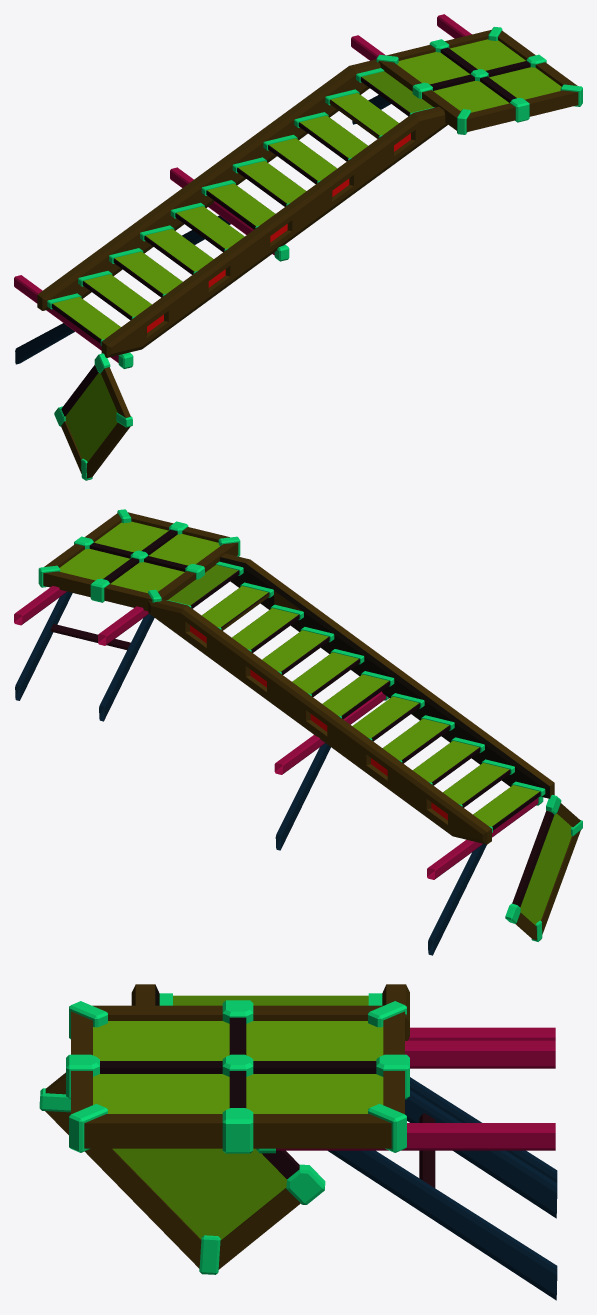
File: OBJ_Plateforme_Rampe.fbx
3 views of the same model, one above another, from view 1: azimuth 30°, elevation 25°; view 2: azimuth 150°, elevation 25°; view 3: azimuth 270°, elevation 25° (orthographic). The views are drawn at different scales.
Visible parts, largest first — view 1: OBJ_Plateforme_Rampe; view 2: OBJ_Plateforme_Rampe; view 3: OBJ_Plateforme_Rampe.
Boxes of the visible parts, bbox=[...] form: OBJ_Plateforme_Rampe: bbox=[14, 14, 582, 480]; OBJ_Plateforme_Rampe: bbox=[14, 509, 582, 955]; OBJ_Plateforme_Rampe: bbox=[39, 984, 557, 1300].
Size of the model in its own units: 37.91 by 23.52 by 18.6.
